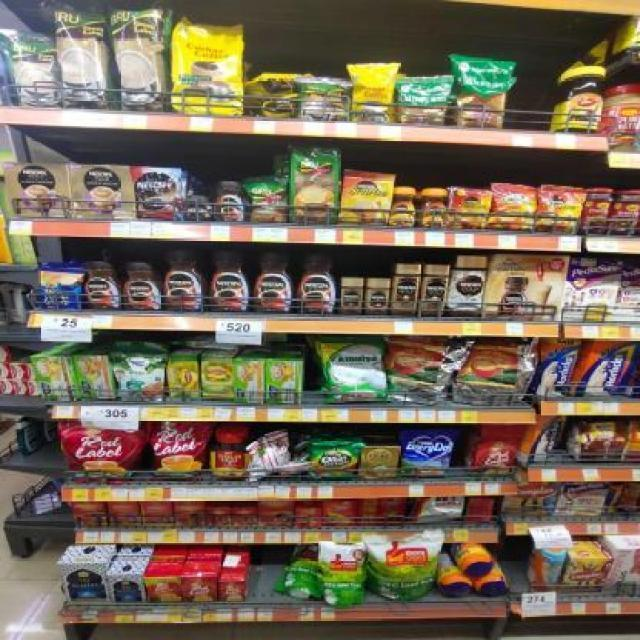Coffee: (132, 167, 184, 221), (163, 249, 206, 313), (206, 251, 249, 312), (294, 252, 336, 314), (343, 171, 389, 226), (254, 250, 292, 312), (492, 183, 535, 232), (122, 261, 161, 312), (452, 256, 484, 318), (84, 260, 122, 311), (539, 185, 579, 232), (214, 180, 246, 222), (422, 265, 446, 318), (419, 188, 449, 230), (394, 266, 418, 317), (389, 186, 416, 227), (366, 278, 388, 314), (342, 278, 361, 314), (188, 197, 214, 221)
